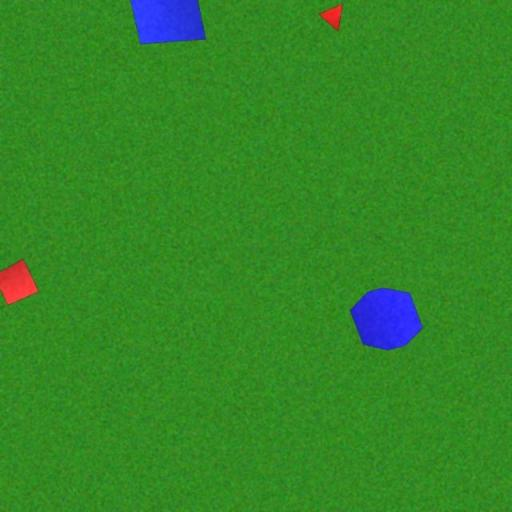BLUE_SQUARE: (123, 0, 207, 45)
RED_SQUARE: (0, 258, 40, 306)
